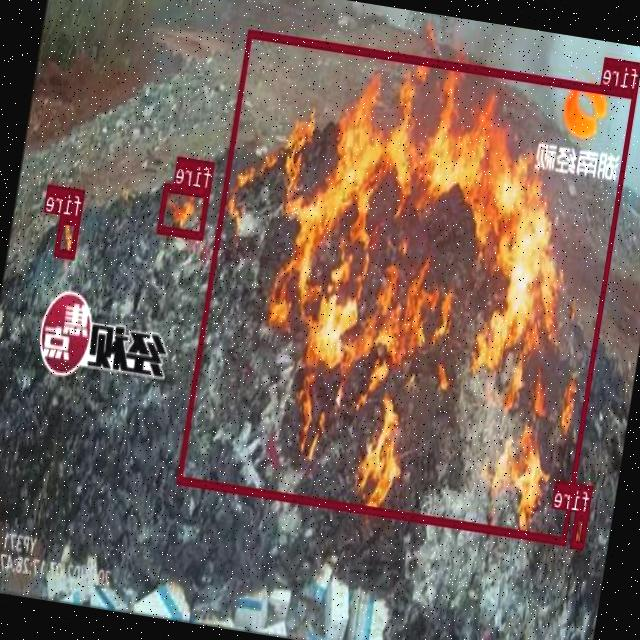fire: (178, 29, 638, 545), (158, 182, 211, 240), (56, 215, 82, 258), (571, 511, 590, 548)
